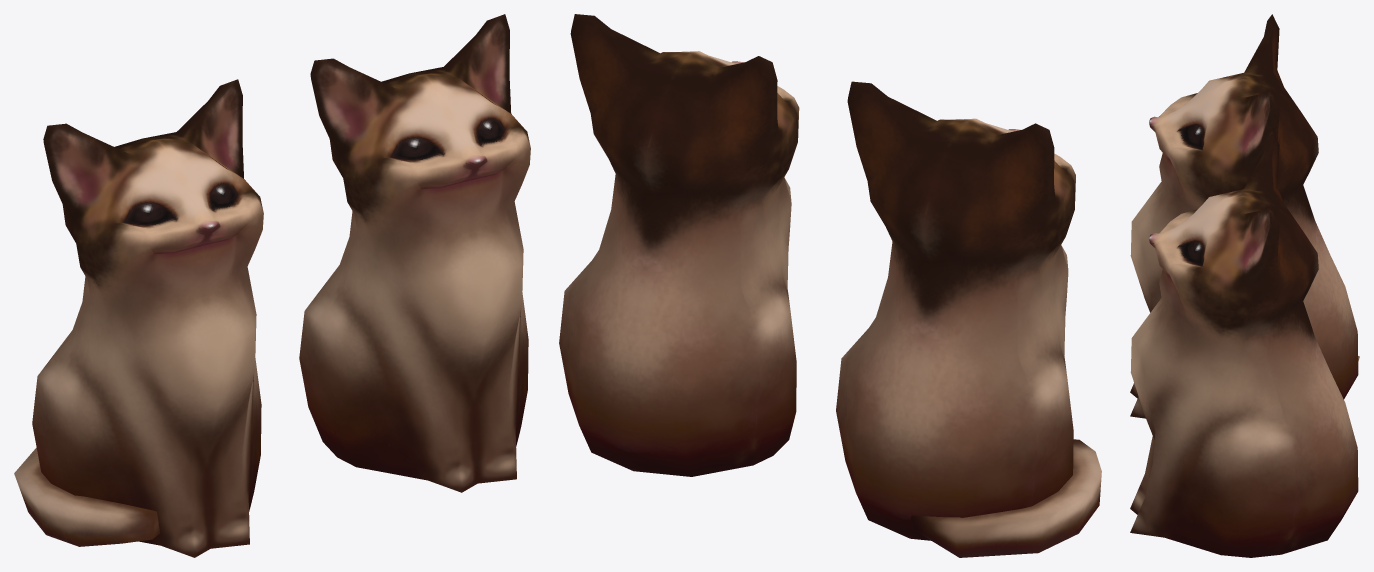
3 views of the same model, side by side, from view 1: azimuth 30°, elevation 25°; view 2: azimuth 150°, elevation 25°; view 3: azimuth 270°, elevation 25° (orthographic). The views are drawn at different scales.
Visible parts, largest first — view 1: cat.001_7, cat_6, tail_1; view 2: cat.001_7, cat_6, tail_1; view 3: cat.001_7, cat_6.
Part boxes in pixels (left/top/right/bottom): cat.001_7: left=299, top=14, right=530, bottom=492; cat_6: left=32, top=79, right=263, bottom=557; tail_1: left=14, top=447, right=159, bottom=546; cat.001_7: left=559, top=14, right=799, bottom=476; cat_6: left=836, top=81, right=1075, bottom=540; tail_1: left=910, top=439, right=1101, bottom=557; cat.001_7: left=1130, top=131, right=1358, bottom=557; cat_6: left=1130, top=14, right=1358, bottom=418.
Bounding box in the file's own units: 16.74 × 13 × 7.64.
1 material, 1 textured.
